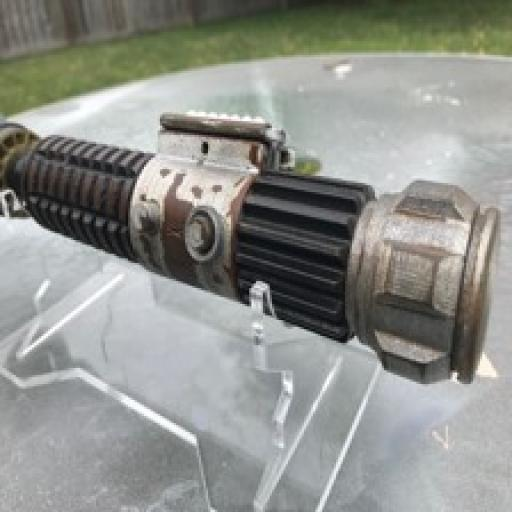lightsaber: (0, 107, 503, 396)
